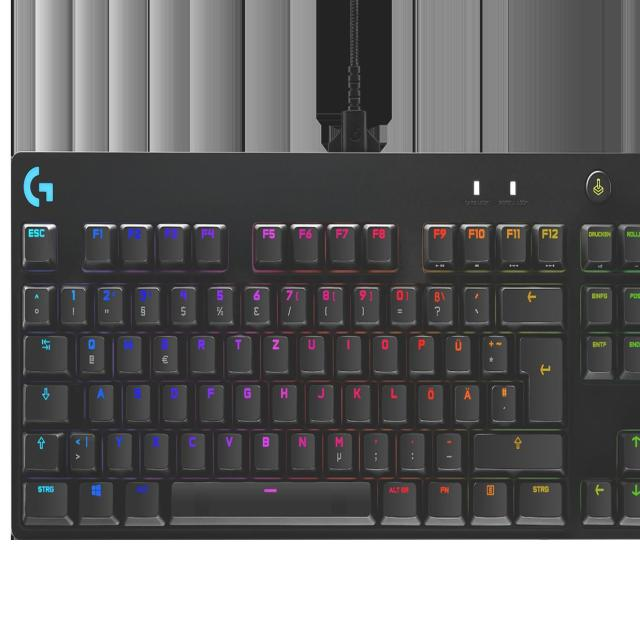0: (387, 282, 416, 322)
1: (59, 283, 86, 321)
2: (94, 282, 122, 323)
3: (131, 282, 159, 324)
4: (169, 283, 197, 323)
5: (205, 282, 233, 323)
6: (241, 282, 270, 322)
7: (278, 283, 306, 323)
8: (314, 282, 343, 323)
9: (351, 282, 380, 322)
a: (86, 379, 113, 419)
accent: (462, 283, 489, 321)
ae: (453, 379, 479, 419)
alt-left: (123, 476, 158, 516)
altgr-right: (379, 476, 416, 516)
b: (251, 427, 278, 467)
c: (178, 427, 205, 467)
caret: (22, 283, 49, 321)
comma: (361, 427, 388, 467)
d: (160, 379, 187, 418)
del: (498, 283, 562, 321)
e: (151, 331, 178, 371)
enter: (516, 330, 563, 420)
f: (197, 379, 223, 419)
g: (233, 379, 260, 418)
h: (270, 379, 296, 419)
hash: (489, 380, 515, 419)
i: (334, 330, 360, 369)
j: (306, 379, 333, 419)
k: (343, 379, 370, 419)
keyboard: (5, 170, 640, 544)
l: (380, 379, 406, 419)
less: (67, 429, 95, 469)
m: (324, 428, 352, 468)
minus: (434, 427, 460, 467)
n: (288, 427, 314, 467)
o: (370, 331, 397, 370)
oe: (416, 379, 442, 419)
p: (407, 331, 433, 370)
plus: (479, 330, 507, 370)
point: (398, 428, 424, 466)
q: (76, 330, 104, 371)
r: (187, 331, 215, 370)
s: (123, 379, 150, 419)
shift-left: (22, 430, 57, 468)
shift-lock: (22, 380, 67, 419)
shift-right: (471, 428, 562, 468)
space: (167, 476, 372, 517)
ss: (424, 283, 453, 322)
strg-left: (21, 476, 67, 516)
strg-right: (516, 476, 563, 516)
t: (224, 330, 251, 370)
tab: (23, 331, 68, 370)
u: (297, 331, 324, 370)
ue: (443, 331, 470, 370)
v: (215, 427, 241, 467)
w: (114, 331, 141, 370)
x: (142, 427, 168, 467)
y: (105, 428, 132, 467)
z: (261, 331, 288, 371)
